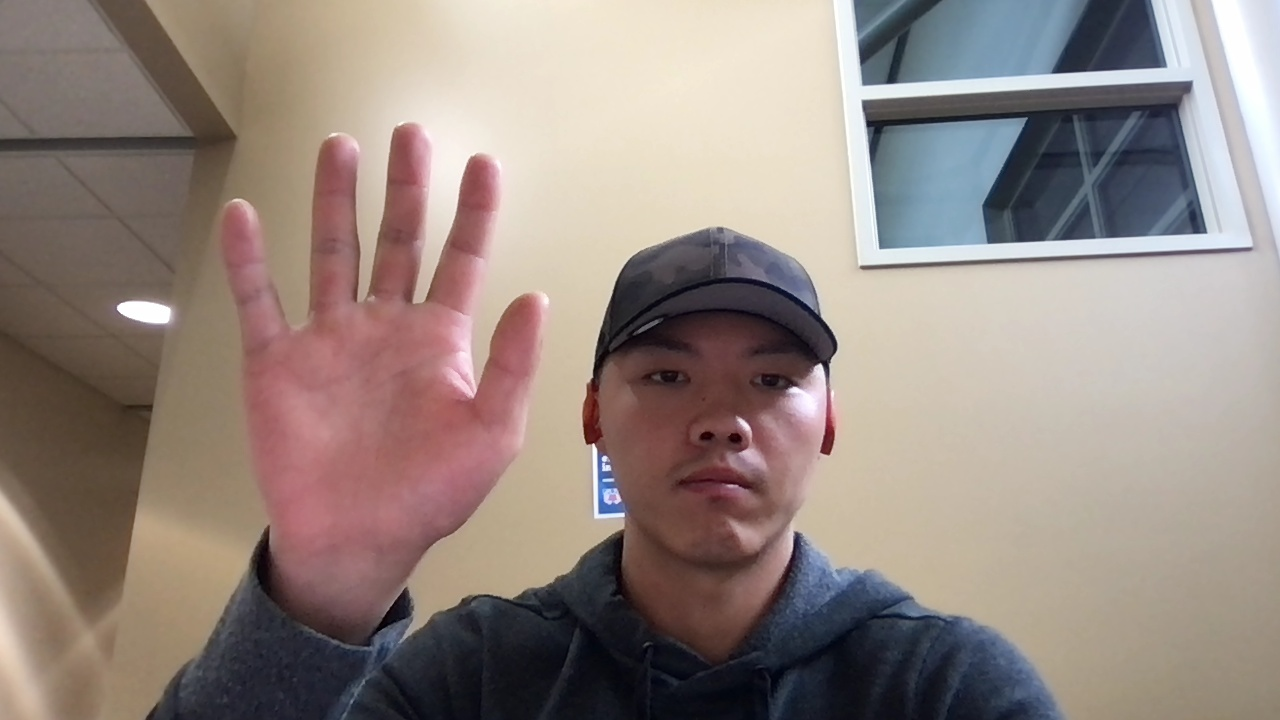Hello: (217, 117, 554, 566)
